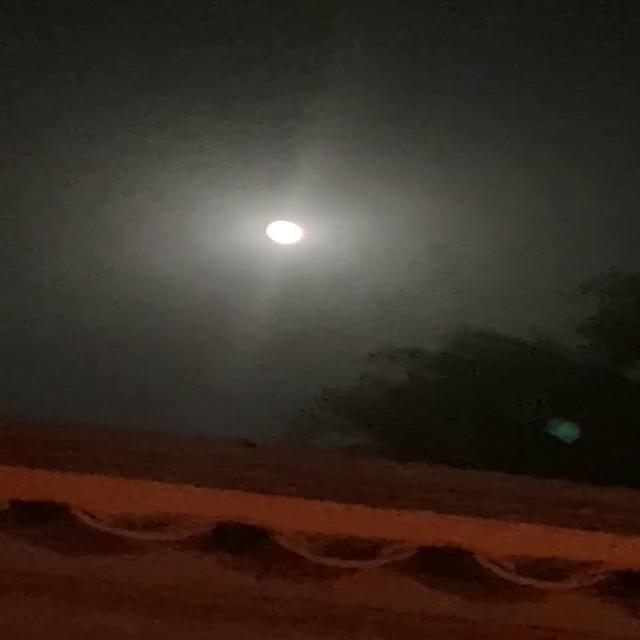moon: (263, 212, 322, 250)
